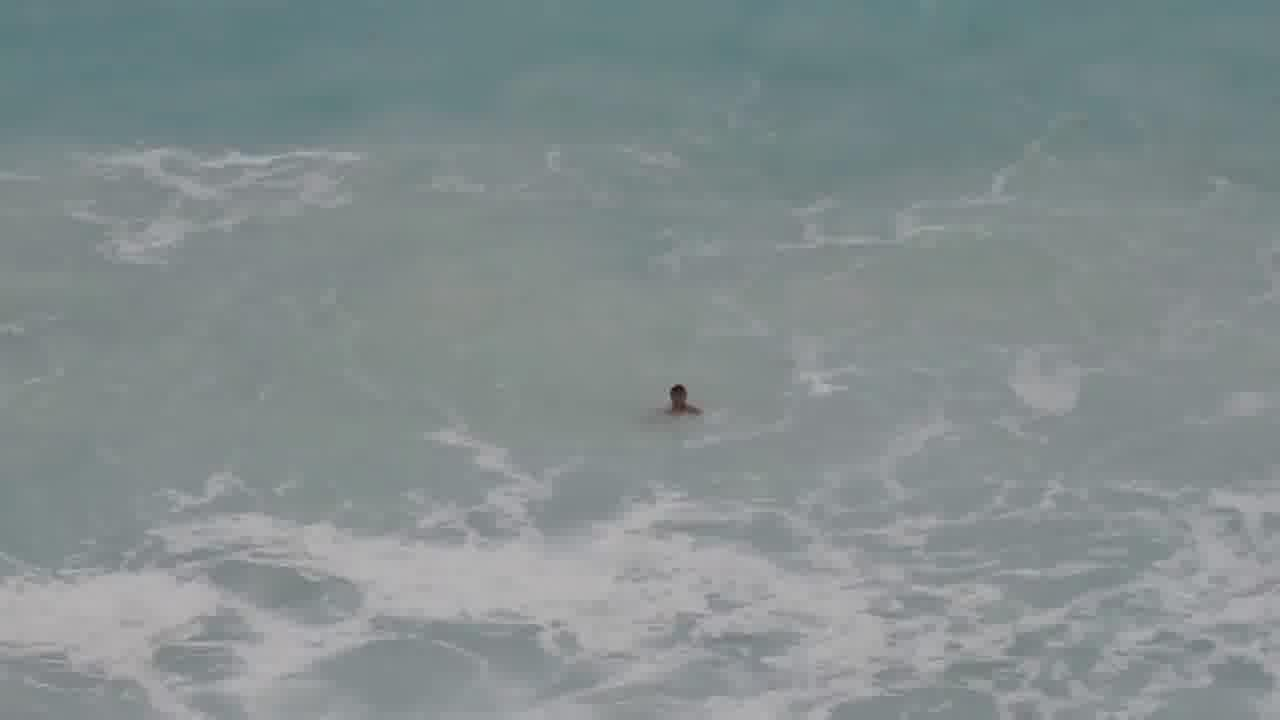human: (652, 374, 715, 423)
